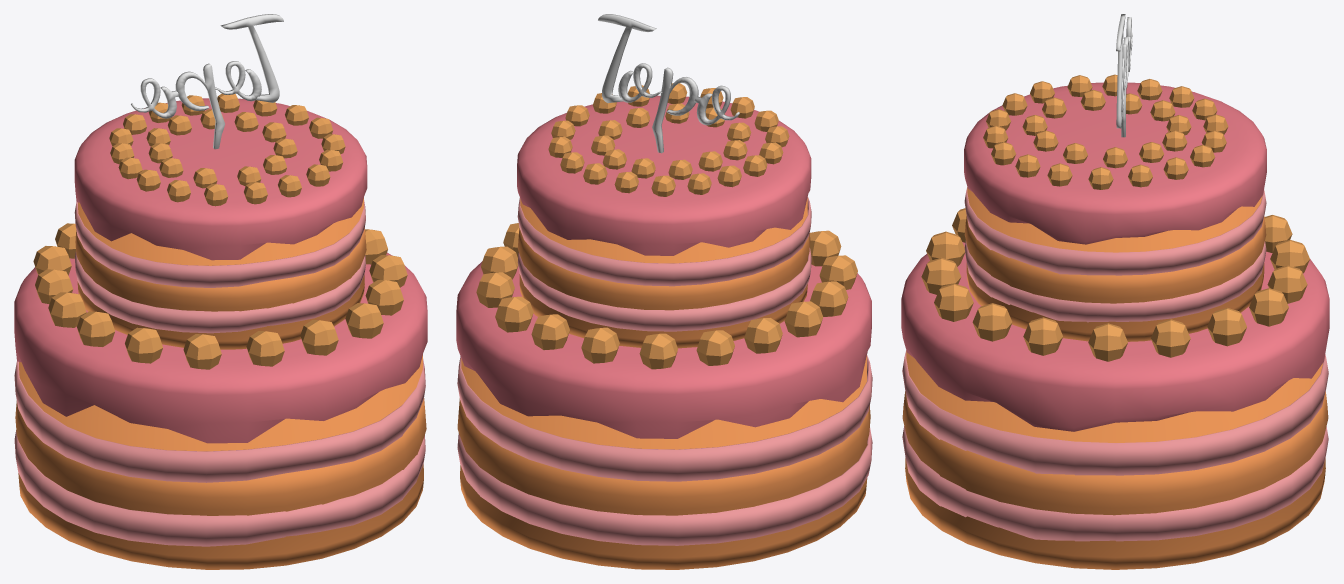
File: bolo2.glb
3 renders of one model, left to right at view 1: azimuth 30°, elevation 25°; view 2: azimuth 150°, elevation 25°; view 3: azimuth 270°, elevation 25°, orthographic. The views are drawn at different scales.
Visible parts, largest first — view 1: COBERTURA1, BASE1BOLO, COBERTURA2, BASE2BOLO, RECHEIO.001, BRIGADEIRO, RECHEIO, BRIGADEIRO.001, RECHEIO2.001, RECHEIO2, TOPO1.001; view 2: COBERTURA1, BASE1BOLO, COBERTURA2, RECHEIO.001, BASE2BOLO, BRIGADEIRO, RECHEIO, BRIGADEIRO.001, RECHEIO2.001, RECHEIO2, TOPO1.001; view 3: BASE1BOLO, COBERTURA1, COBERTURA2, BASE2BOLO, RECHEIO.001, BRIGADEIRO, RECHEIO, BRIGADEIRO.001, RECHEIO2.001, RECHEIO2, TOPO1.001.
Boxes of the visible parts, x1,y1,x2,y2 form: COBERTURA1: (14, 252, 427, 443); BASE1BOLO: (15, 355, 426, 569); COBERTURA2: (74, 98, 367, 260); BASE2BOLO: (75, 198, 366, 349); RECHEIO.001: (14, 359, 425, 482); BRIGADEIRO: (33, 223, 407, 369); RECHEIO: (14, 430, 425, 546); BRIGADEIRO.001: (109, 93, 345, 206); RECHEIO2.001: (74, 200, 365, 287); RECHEIO2: (74, 251, 365, 333); TOPO1.001: (131, 14, 283, 149); COBERTURA1: (456, 261, 871, 438); BASE1BOLO: (457, 355, 870, 569); COBERTURA2: (517, 95, 811, 255); RECHEIO.001: (457, 355, 872, 481); BASE2BOLO: (517, 198, 810, 348); BRIGADEIRO: (476, 223, 857, 369); RECHEIO: (457, 428, 872, 545); BRIGADEIRO.001: (548, 83, 789, 196); RECHEIO2.001: (517, 196, 811, 286); RECHEIO2: (517, 248, 811, 331); TOPO1.001: (598, 14, 739, 153); BASE1BOLO: (902, 351, 1328, 569); COBERTURA1: (901, 242, 1329, 431); COBERTURA2: (964, 82, 1266, 244); BASE2BOLO: (964, 187, 1266, 341); RECHEIO.001: (902, 350, 1328, 475); BRIGADEIRO: (921, 208, 1309, 361); RECHEIO: (902, 426, 1328, 541); BRIGADEIRO.001: (983, 74, 1228, 189); RECHEIO2.001: (964, 187, 1266, 275); RECHEIO2: (964, 240, 1266, 322); TOPO1.001: (1116, 14, 1132, 137).
Bounding box in the file's own units: 2.22 × 2.69 × 2.21.
